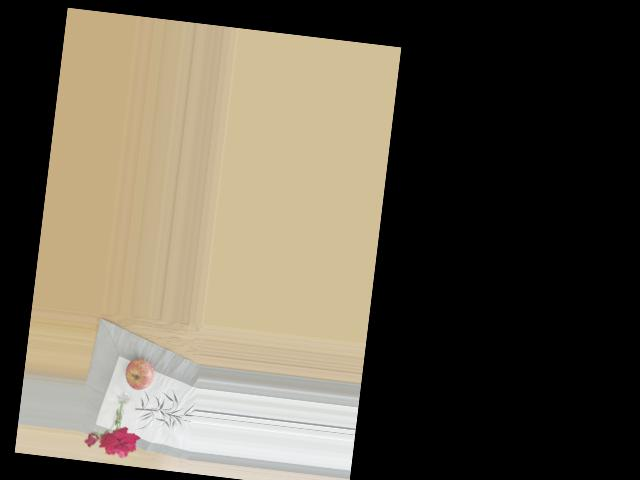apple: (120, 353, 156, 393)
